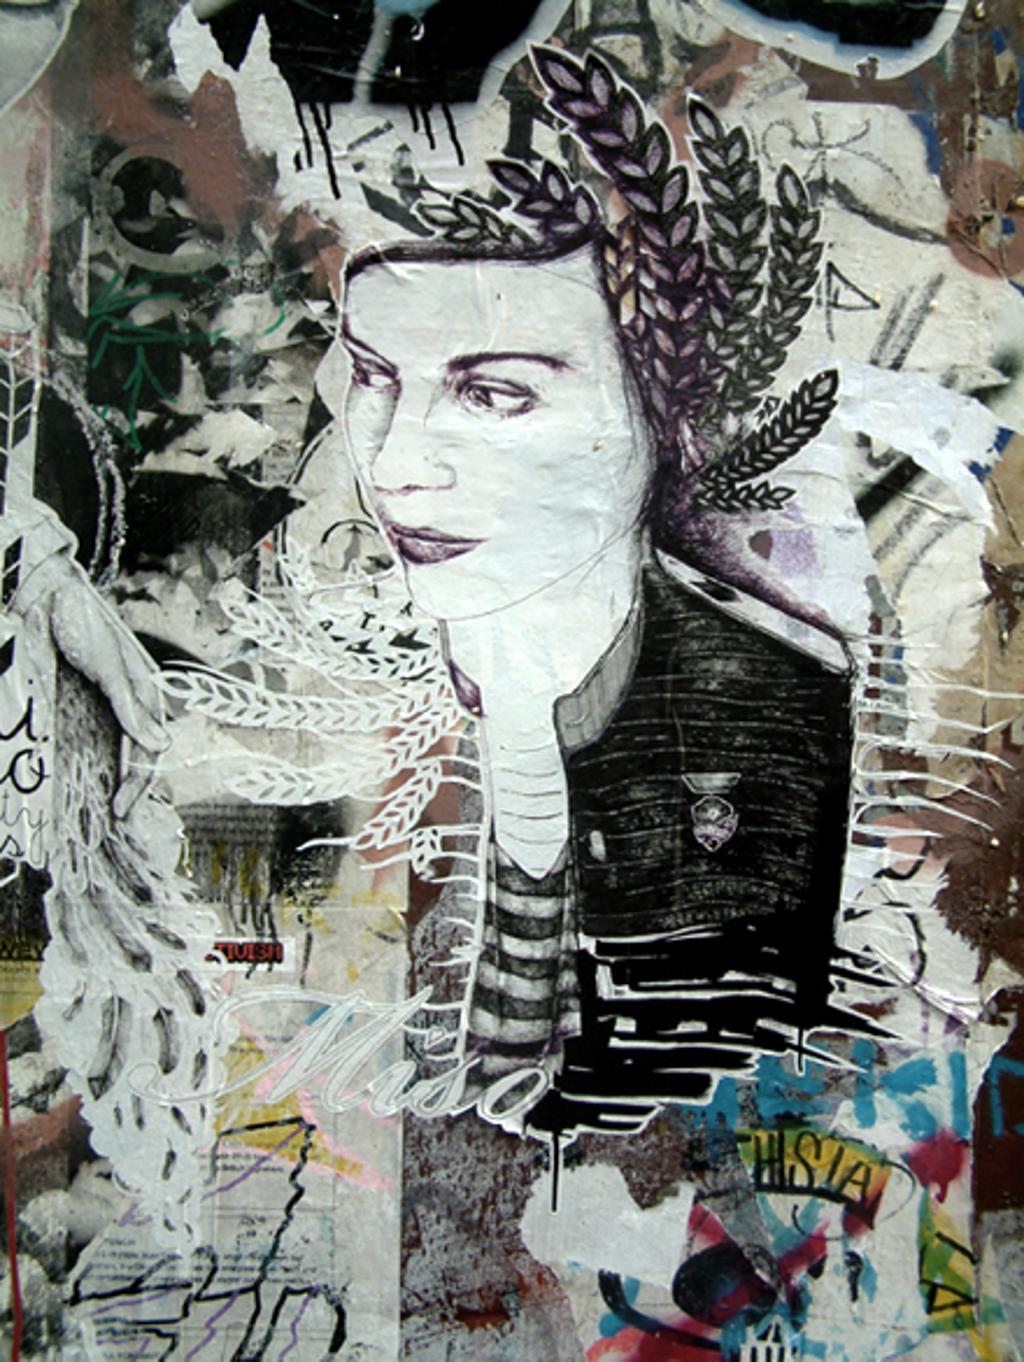face: (330, 205, 628, 591)
